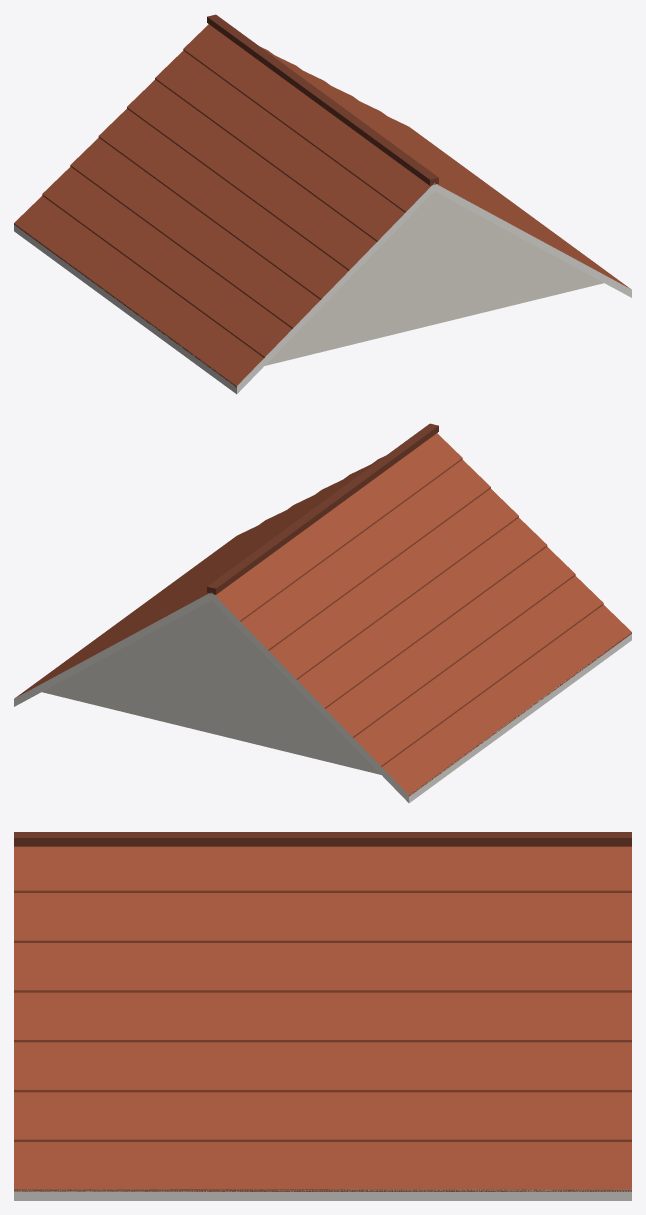
The model's file is mod-telhado-barro-4x4.gltf.
3 views of the same model, one above another, from view 1: azimuth 30°, elevation 25°; view 2: azimuth 150°, elevation 25°; view 3: azimuth 270°, elevation 25° (orthographic). The views are drawn at different scales.
Parts seen in each view (by area): view 1: mod-telhado-barro-4x4; view 2: mod-telhado-barro-4x4; view 3: mod-telhado-barro-4x4.
Boxes of the visible parts, x1,y1,x2,y2 form: mod-telhado-barro-4x4: (14,14,631,394); mod-telhado-barro-4x4: (14,423,631,803); mod-telhado-barro-4x4: (14,832,631,1200).
Bounding box in the file's own units: 4.4 × 1.78 × 4.3.
